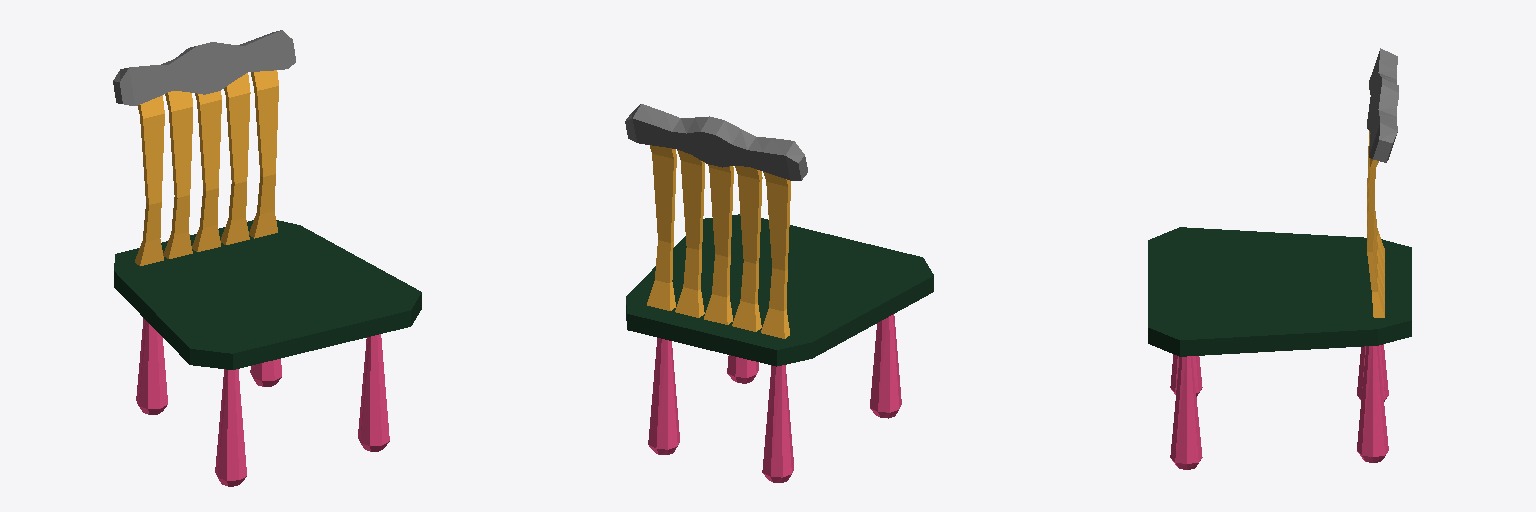
The model's file is chairRemodelObjFile.obj.
3 renders of one model, left to right at view 1: azimuth 30°, elevation 25°; view 2: azimuth 150°, elevation 25°; view 3: azimuth 270°, elevation 25°, orthographic.
Visible parts, largest first — view 1: seatShape; view 2: seatShape; view 3: seatShape.
Boxes of the visible parts, x1,y1,x2,y2 form: seatShape: [113, 30, 421, 486]; seatShape: [625, 104, 933, 482]; seatShape: [1148, 48, 1411, 469].
Bounding box in the file's own units: 149 × 214 × 146.